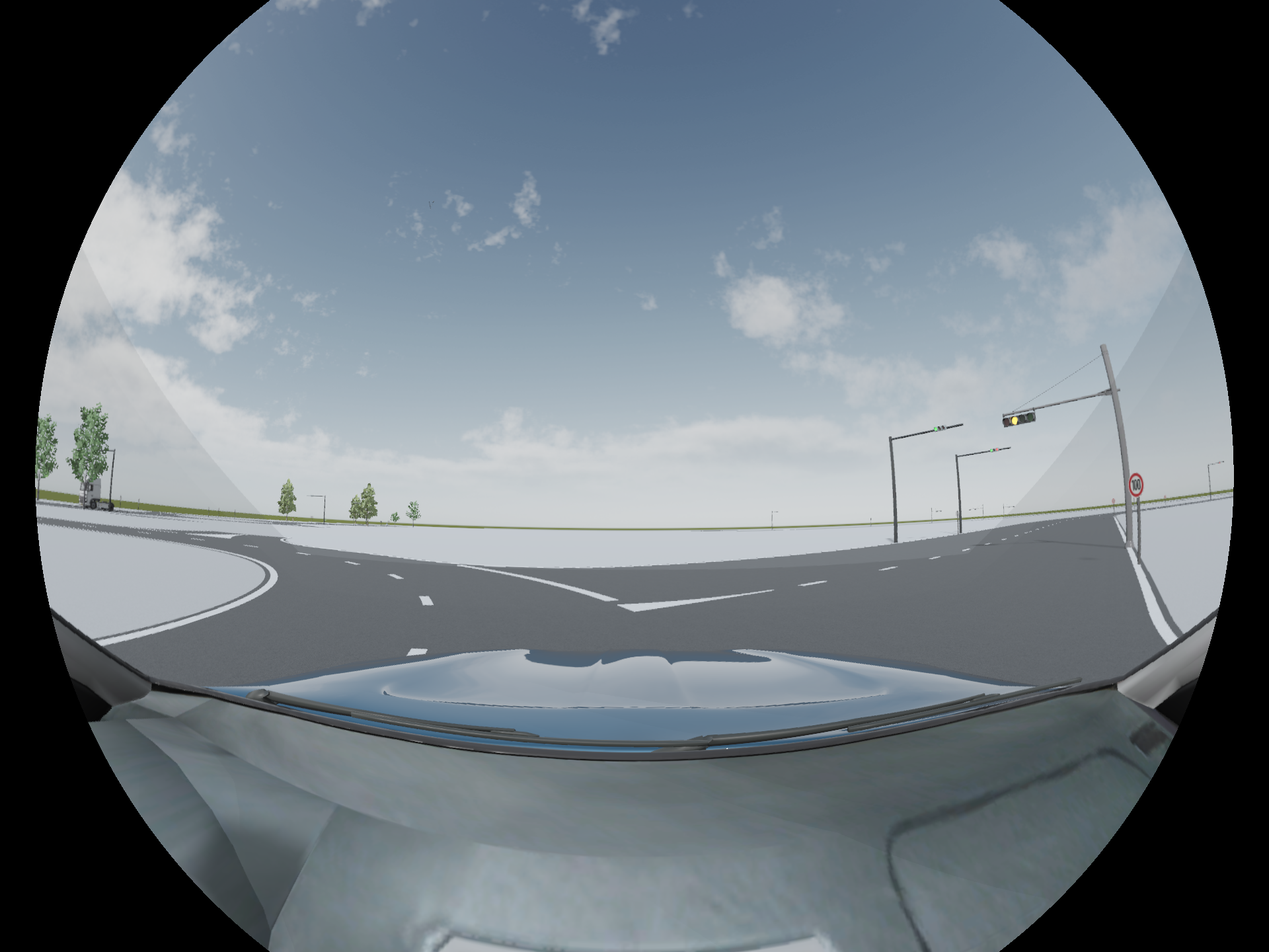Speed Limit 100: (1128, 472, 1143, 498)
